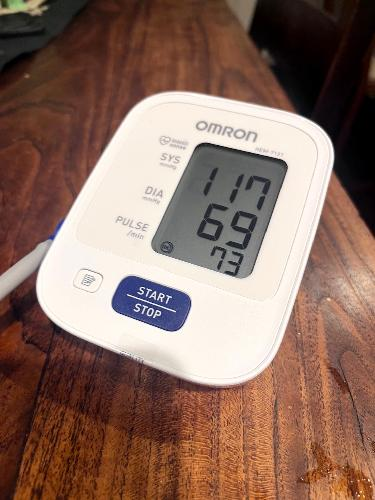bpm: (144, 126, 292, 287)
